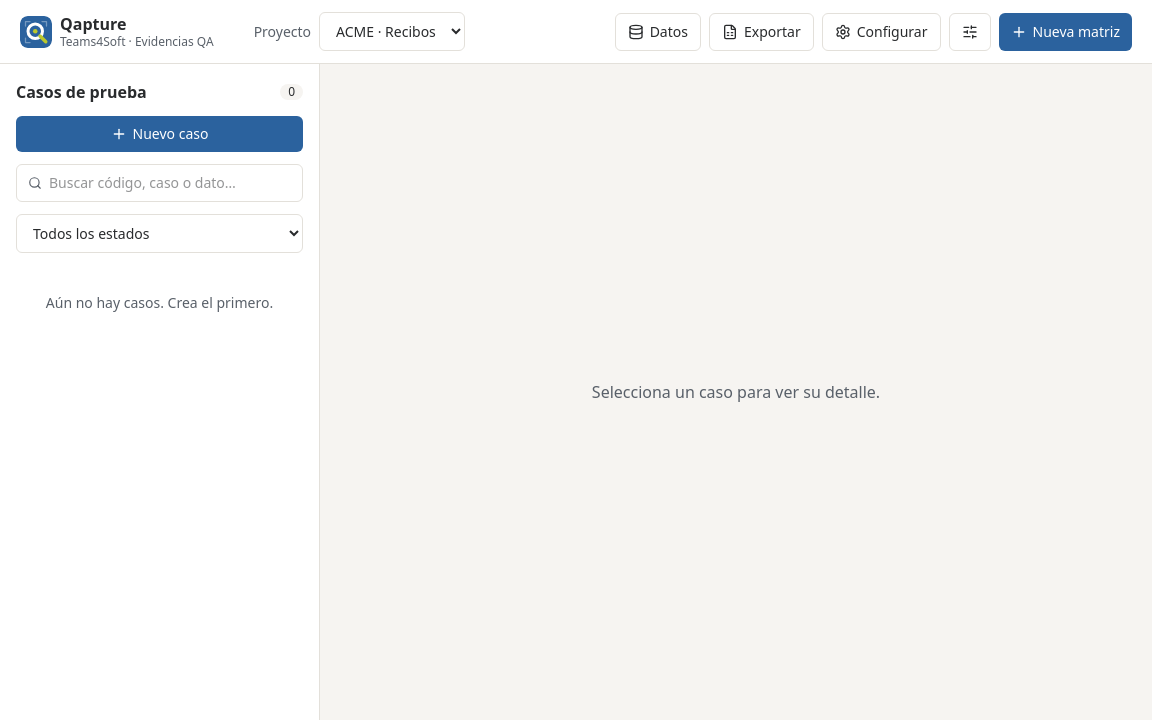
Test case: configuración del proyecto › muestra errores de columnas y no guarda
This screenshot has width=1152, height=720.
Click the button "Configurar" at (881, 32), box [822,12,940,50]
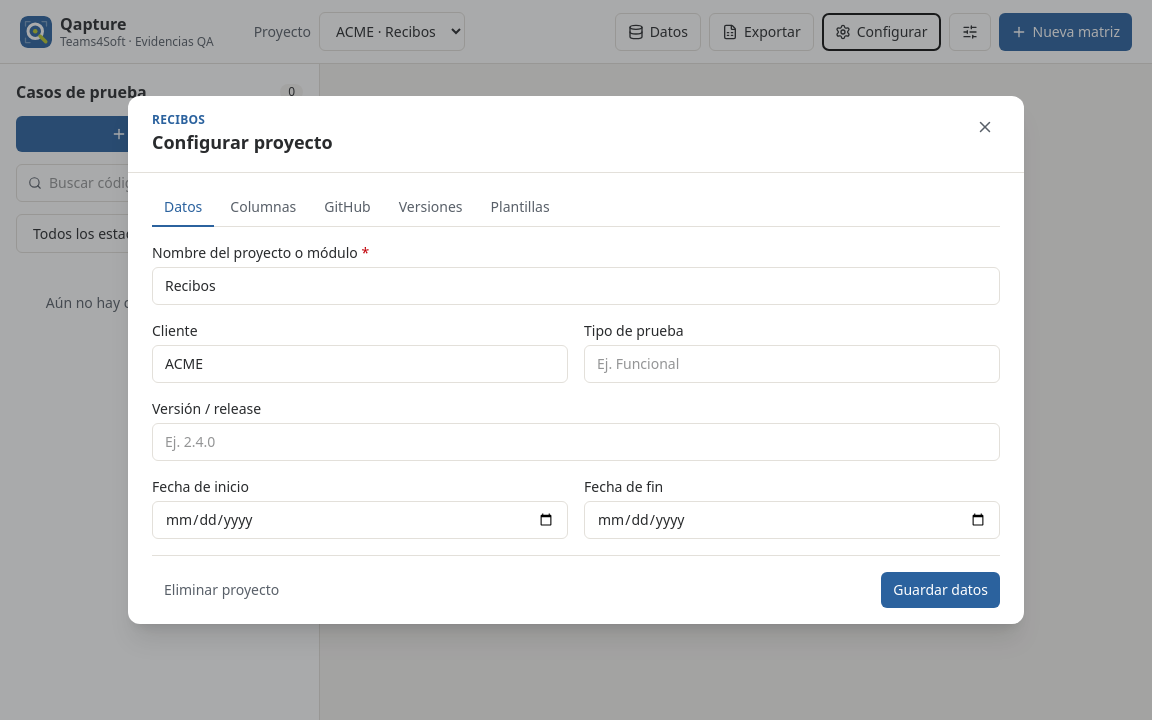
Click the tab "Columnas" at (263, 208), box [218,189,308,227]
(page scrolled)
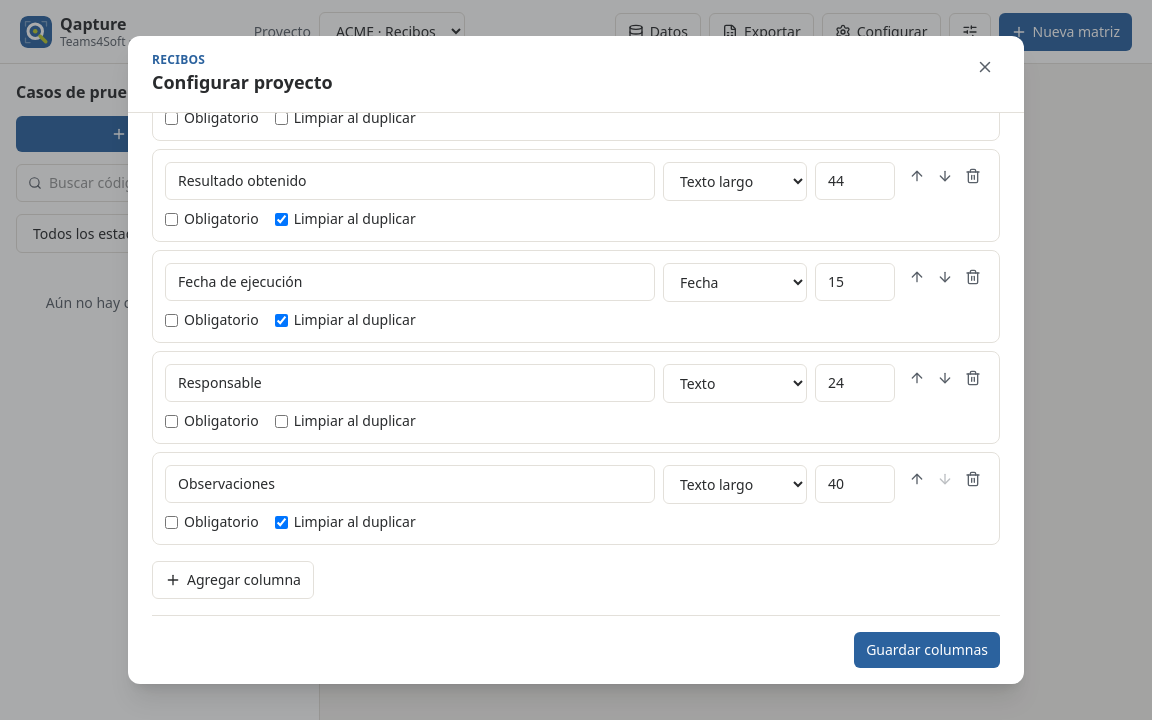
Click the button "Agregar columna" at (233, 580), box [152,561,314,599]
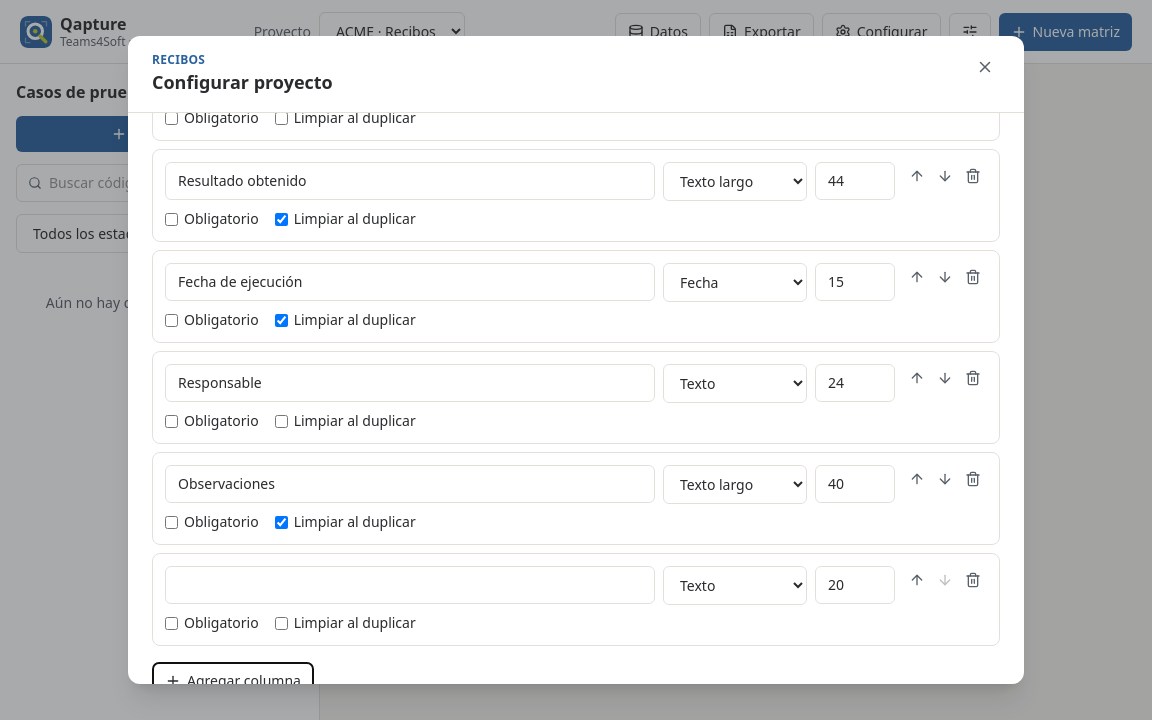
Type "entorno" into the field named "Nombre de la columna 12" at (410, 585), box [165,566,655,604]
(page scrolled)
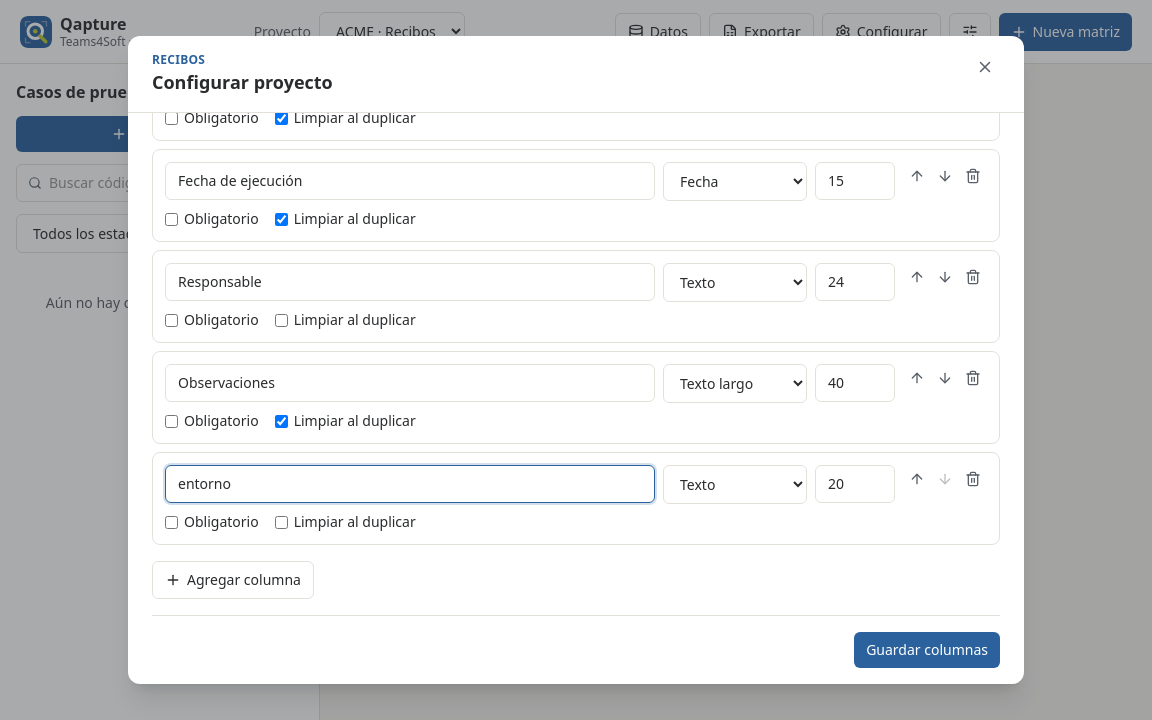
Click the button "Guardar columnas" at (927, 650), box [854,632,1000,668]
(page scrolled)
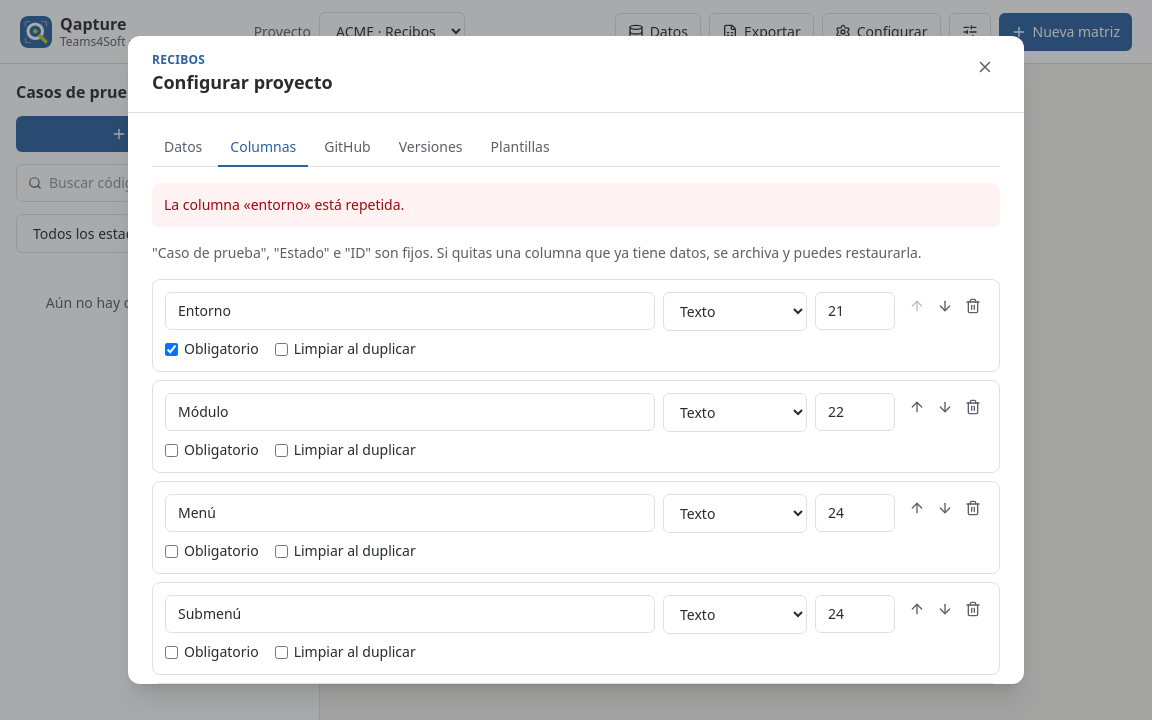
expect the list item "La columna «entorno» está repetida." is shown: met, box [164,195,404,214]
